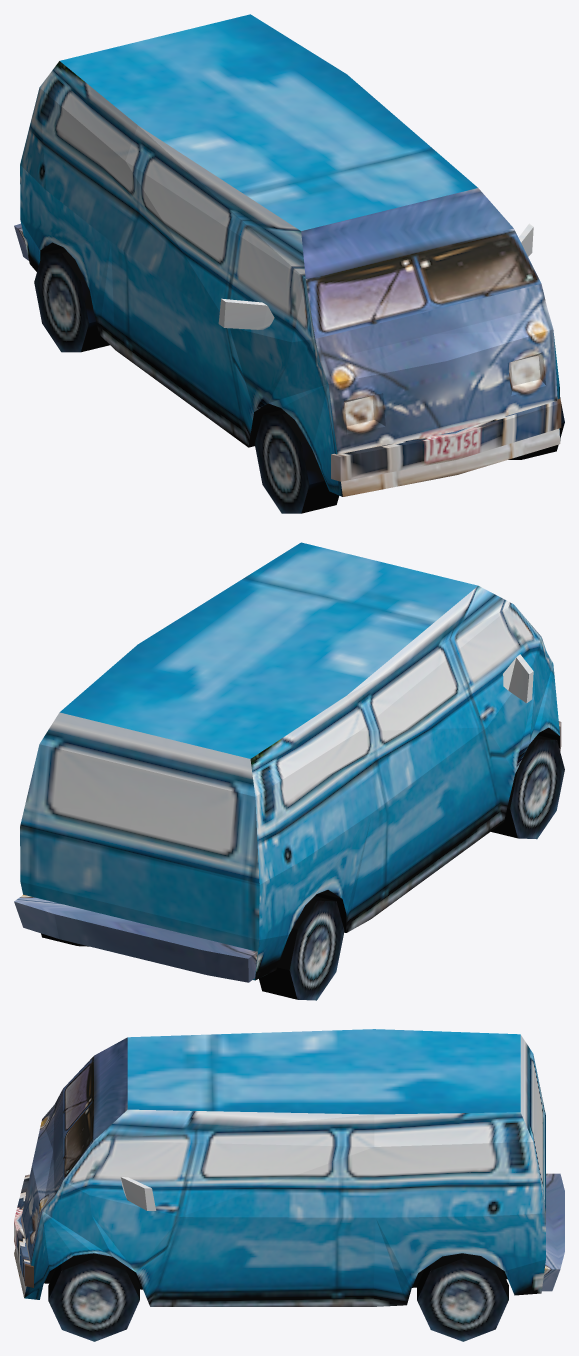
File: Car.fbx
3 views of the same model, one above another, from view 1: azimuth 30°, elevation 25°; view 2: azimuth 150°, elevation 25°; view 3: azimuth 270°, elevation 25° (orthographic). The views are drawn at different scales.
Visible parts, largest first — view 1: Car4, Car4.004, Car4.001, Car4.002, Car4.003; view 2: Car4, Car4.004, Car4.002, Car4.001, Car4.003; view 3: Car4, Car4.002, Car4.001, Car4.004, Car4.003.
Boxes of the visible parts, x1,y1,x2,y2 form: Car4: [20, 14, 560, 496]; Car4.004: [14, 223, 561, 481]; Car4.001: [254, 397, 564, 513]; Car4.002: [34, 248, 109, 352]; Car4.003: [218, 223, 533, 329]; Car4: [20, 542, 559, 980]; Car4.004: [14, 721, 561, 982]; Car4.002: [41, 896, 344, 1000]; Car4.001: [491, 735, 564, 839]; Car4.003: [503, 654, 533, 703]; Car4: [14, 1029, 545, 1306]; Car4.002: [417, 1253, 508, 1341]; Car4.001: [48, 1253, 139, 1341]; Car4.004: [14, 1173, 564, 1291]; Car4.003: [120, 1177, 156, 1210].
Bounding box in the file's own units: 340 × 274 × 628.
